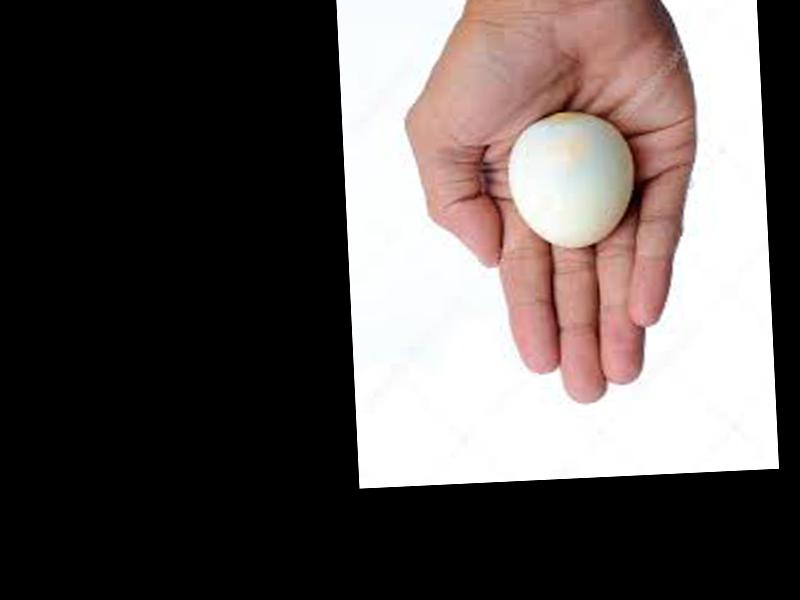Eggs: (508, 109, 634, 252)
